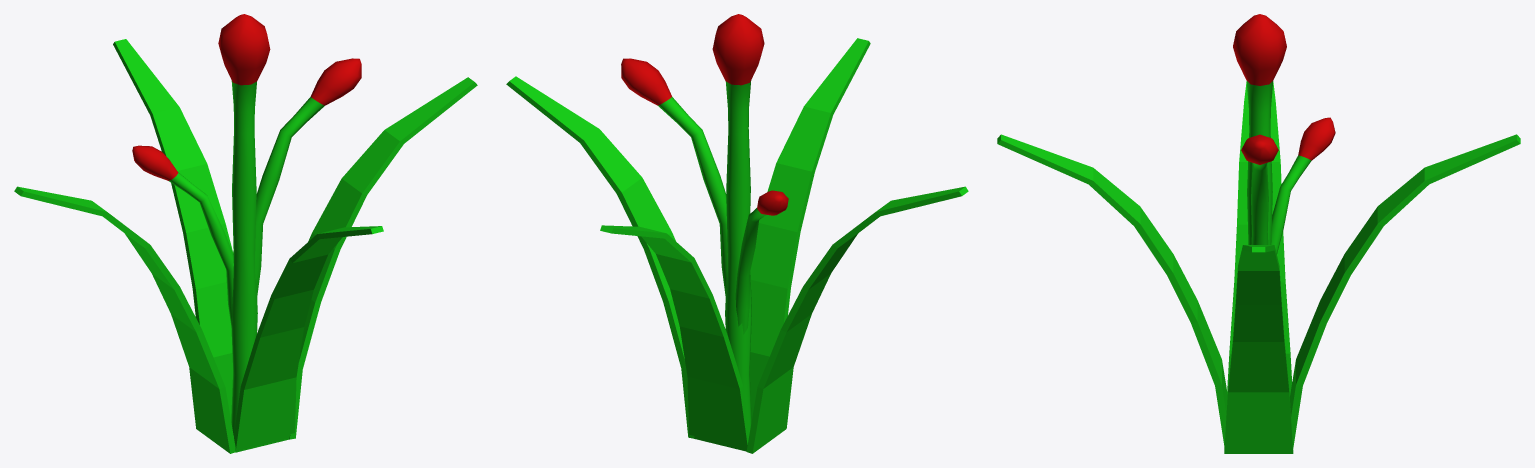
The model's file is Flower1.fbx.
3 views of the same model, side by side, from view 1: azimuth 30°, elevation 25°; view 2: azimuth 150°, elevation 25°; view 3: azimuth 270°, elevation 25° (orthographic).
Visible parts, largest first — view 1: Plant.001; view 2: Plant.001; view 3: Plant.001.
Boxes of the visible parts, box(x1,y1,x2,y2) form: Plant.001: box(14, 14, 477, 453); Plant.001: box(506, 14, 968, 453); Plant.001: box(997, 14, 1520, 453).
Size of the model in its own units: 75.28 by 74.08 by 66.16.
